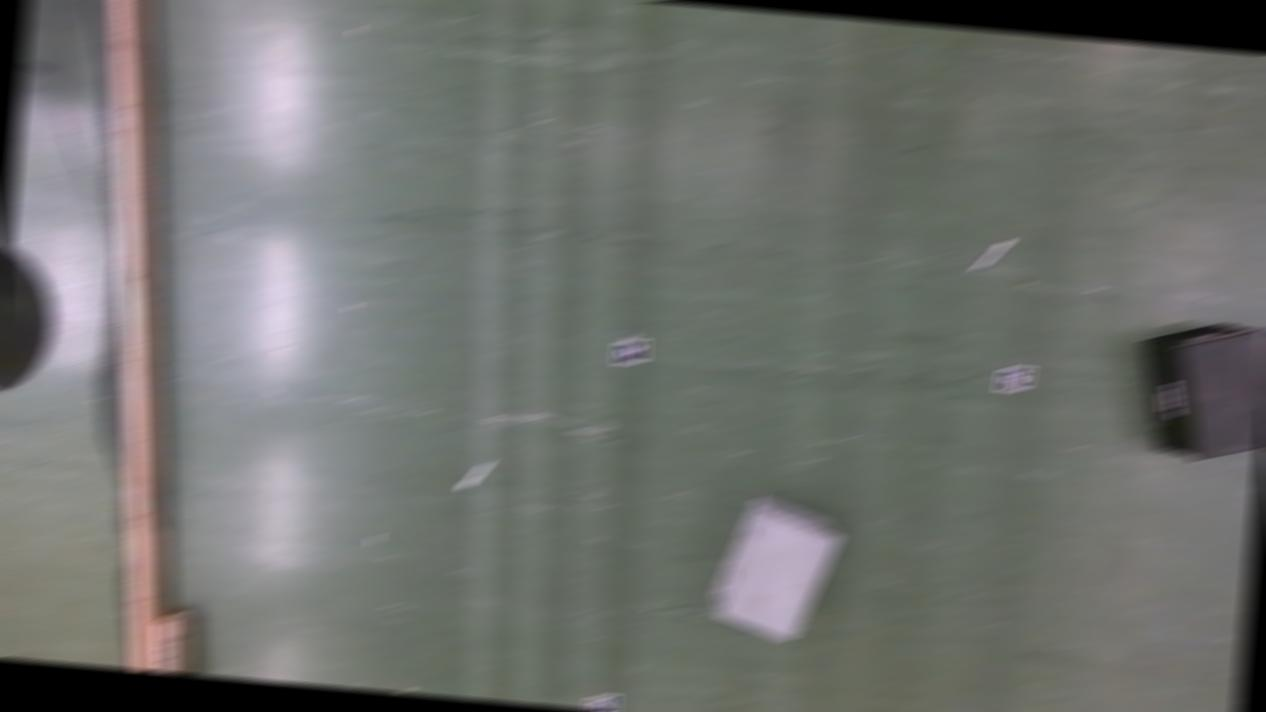probes: (974, 236, 1010, 270), (461, 456, 492, 490)
rako: (706, 490, 845, 642), (1129, 313, 1266, 462)
